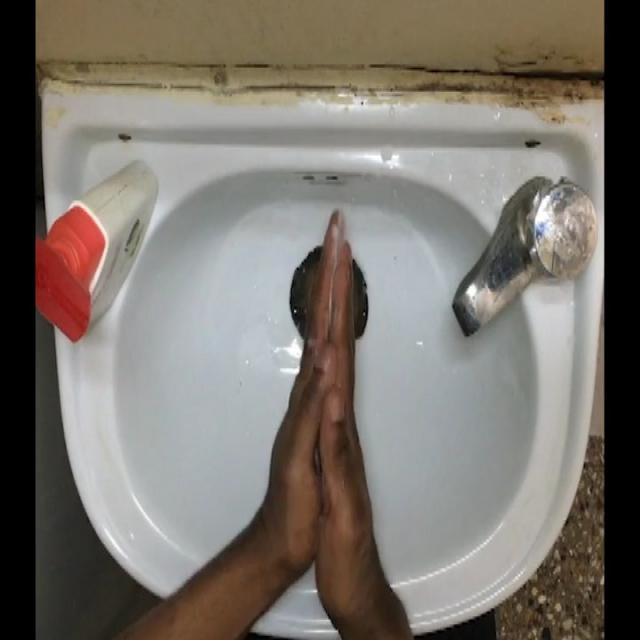step_1: (247, 192, 404, 565)
